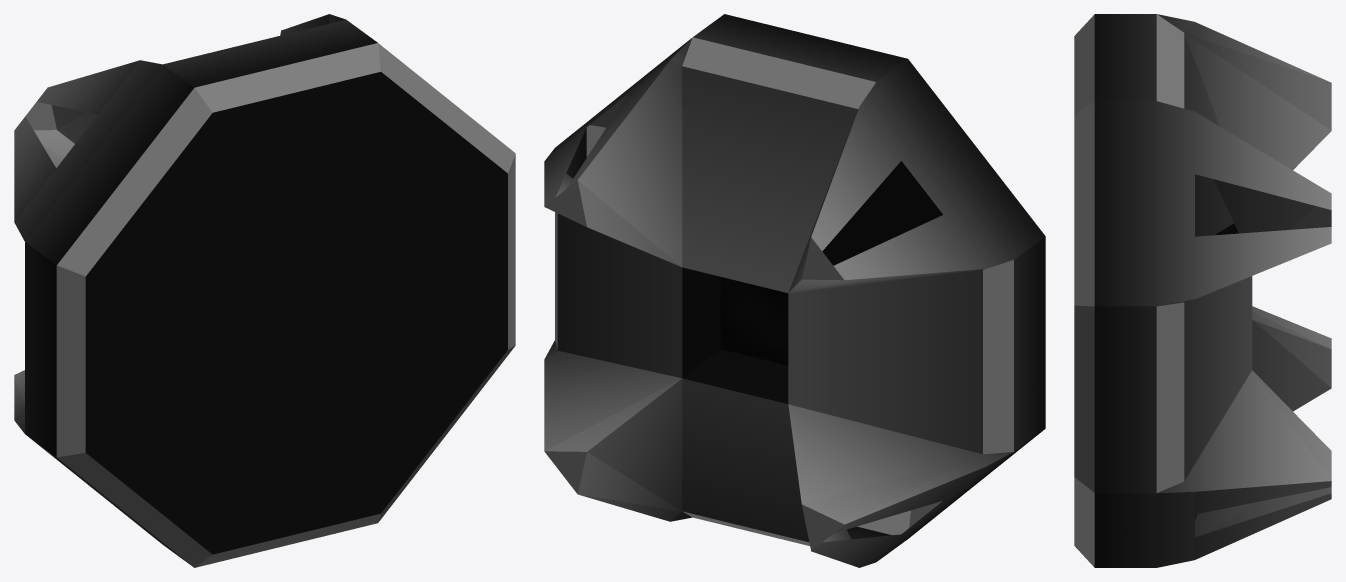
File: Leg_TerrainInspector_1X1_off.FBX
The picture shows the model from 3 angles, left to right: view 1: azimuth 30°, elevation 25°; view 2: azimuth 150°, elevation 25°; view 3: azimuth 270°, elevation 25°; orthographic projection. The views are drawn at different scales.
Parts seen in each view (by area): view 1: Box002; view 2: Box002; view 3: Box002.
Boxes of the visible parts, left/top/right/bottom form: Box002: left=14, top=14, right=515, bottom=567; Box002: left=544, top=14, right=1045, bottom=567; Box002: left=1074, top=14, right=1331, bottom=567.
Size of the model in its own units: 1 by 1 by 0.5.
